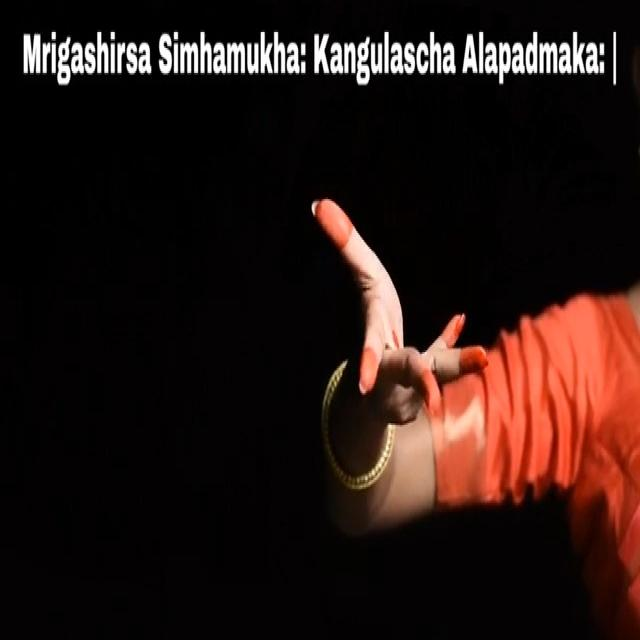Alapadma: (304, 173, 503, 439)
bangle: (314, 366, 394, 507)
text: (24, 7, 619, 106)
